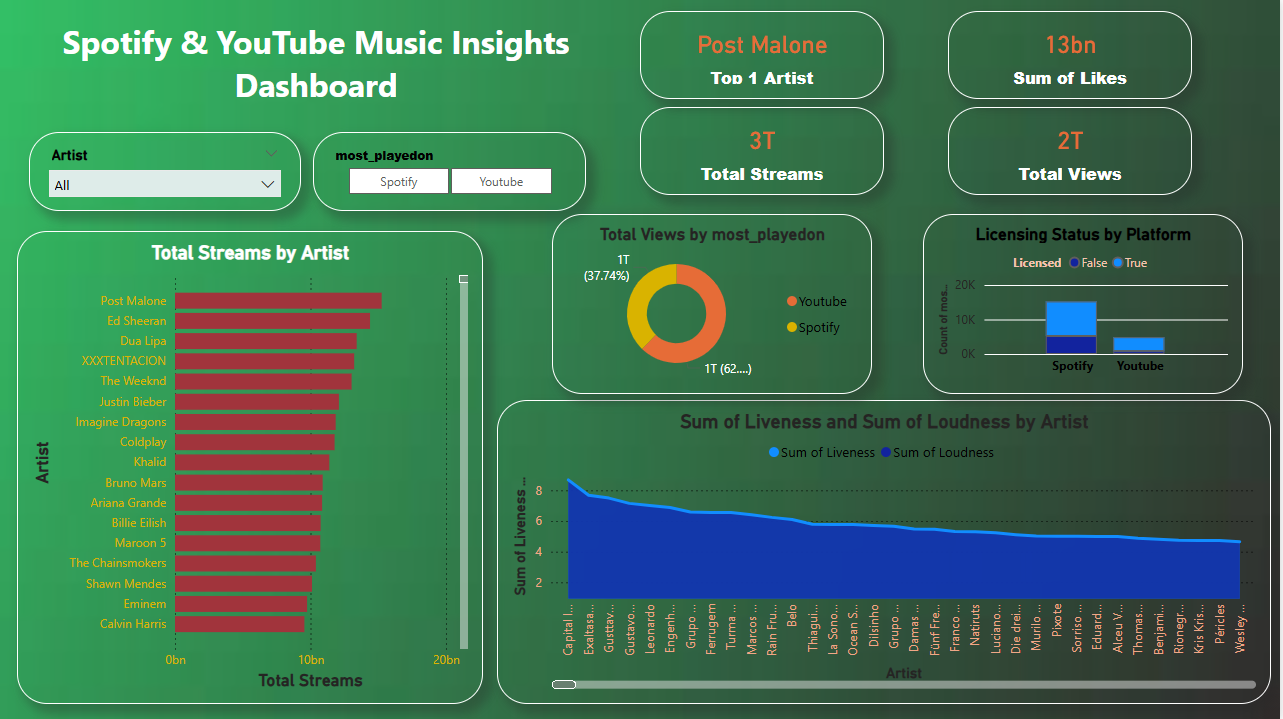

What the dashboard file says about the page in this screenshot:
{"tool":"powerbi","page":{"name":"Artist_Performace","canvas":[1280,720],"ordinal":0},"visuals":[{"type":"barChart","fields":{"Category":["cleaned_dataset.Artist"],"Y":["cleaned_dataset.Total Streams"]},"box":[17,231,466,473],"z":0},{"type":"textbox","box":[0,14,633,106],"z":1000},{"type":"stackedAreaChart","fields":{"Category":["cleaned_dataset.Artist"],"Y":["cleaned_dataset.Liveness","cleaned_dataset.Loudness"]},"box":[506,407,774,304],"z":2000},{"type":"card","fields":{"Values":["cleaned_dataset.Top 1 Artist"]},"box":[640,11,244,88],"z":3000},{"type":"slicer","fields":{"Values":["cleaned_dataset.Artist"]},"box":[29,132,272,79],"z":4000},{"type":"slicer","fields":{"Values":["cleaned_dataset.most_playedon"]},"box":[313,132,273,79],"z":5000},{"type":"donutChart","fields":{"Y":["cleaned_dataset.Total Views"],"Category":["cleaned_dataset.most_playedon"]},"box":[552,214,320,180],"z":6000},{"type":"columnChart","title":"Licensing Status by Platform","fields":{"Category":["cleaned_dataset.most_playedon"],"Y":["cleaned_dataset.most_playedon"],"Series":["cleaned_dataset.Licensed"]},"box":[923,214,320,180],"z":7000},{"type":"card","fields":{"Values":["cleaned_dataset.Likes"]},"box":[948,11,244,88],"z":8000},{"type":"card","fields":{"Values":["cleaned_dataset.Total Streams"]},"box":[640,107,244,88],"z":9000},{"type":"card","fields":{"Values":["cleaned_dataset.Total Views"]},"box":[948,107,244,88],"z":10000}]}

Visuals, with their boxes in screenshot pixels (x1, y1, x2, y2), scaled from the page's 1280x720 canvas onto the 1283x719 screenshot:
barChart - cleaned_dataset.Artist x cleaned_dataset.Total Streams: <region>17, 231, 484, 703</region>
textbox: <region>0, 14, 634, 120</region>
stackedAreaChart - cleaned_dataset.Artist x cleaned_dataset.Liveness: <region>507, 406, 1282, 710</region>
card - cleaned_dataset.Top 1 Artist: <region>642, 11, 886, 99</region>
slicer - cleaned_dataset.Artist: <region>29, 132, 302, 211</region>
slicer - cleaned_dataset.most_playedon: <region>314, 132, 587, 211</region>
donutChart - cleaned_dataset.Total Views x cleaned_dataset.most_playedon: <region>553, 214, 874, 393</region>
"Licensing Status by Platform" columnChart: <region>925, 214, 1246, 393</region>
card - cleaned_dataset.Likes: <region>950, 11, 1195, 99</region>
card - cleaned_dataset.Total Streams: <region>642, 107, 886, 195</region>
card - cleaned_dataset.Total Views: <region>950, 107, 1195, 195</region>
